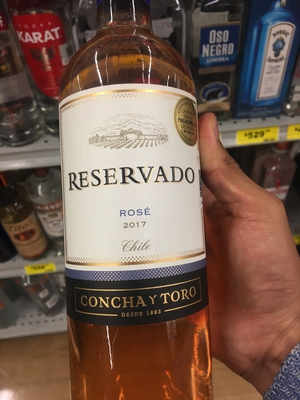reservado rose: (55, 14, 205, 400)
